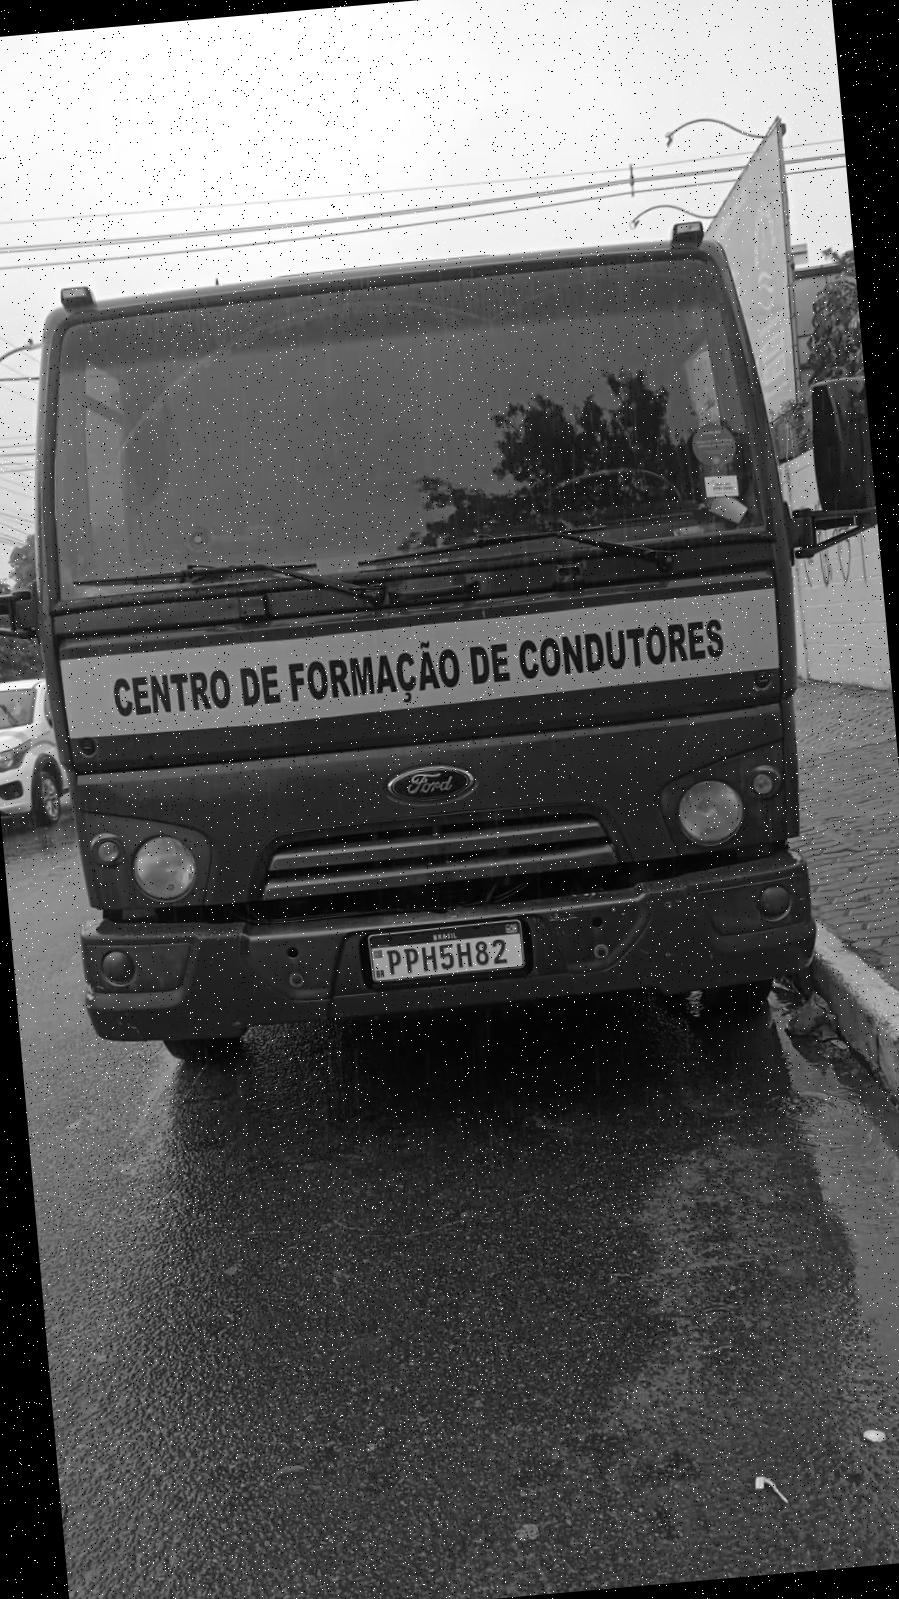placa_mercosul: (367, 919, 525, 983)
